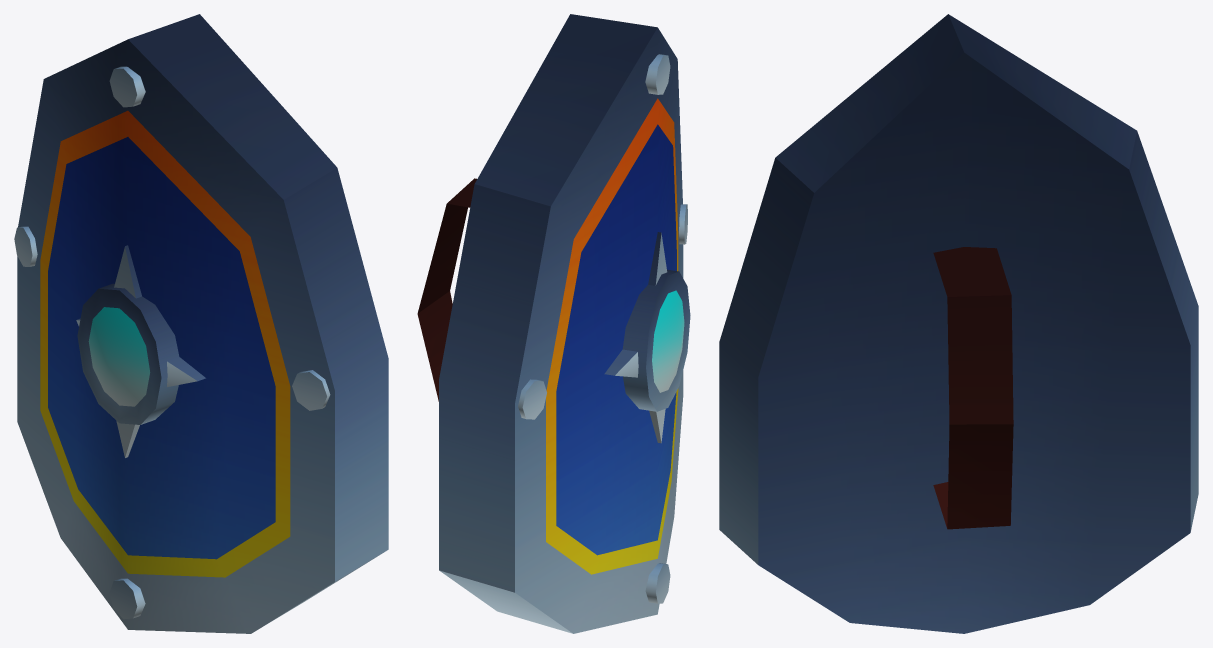
The model's file is Shield Gem.FBX.
3 views of the same model, side by side, from view 1: azimuth 30°, elevation 25°; view 2: azimuth 150°, elevation 25°; view 3: azimuth 270°, elevation 25° (orthographic).
Parts seen in each view (by area): view 1: Shield Gem; view 2: Shield Gem; view 3: Shield Gem.
Part boxes in pixels (bbox=[...]): Shield Gem: bbox=[14, 14, 388, 633]; Shield Gem: bbox=[417, 14, 690, 633]; Shield Gem: bbox=[719, 14, 1198, 633].
Bounding box in the file's own units: 27.69 × 50.8 × 68.03.
